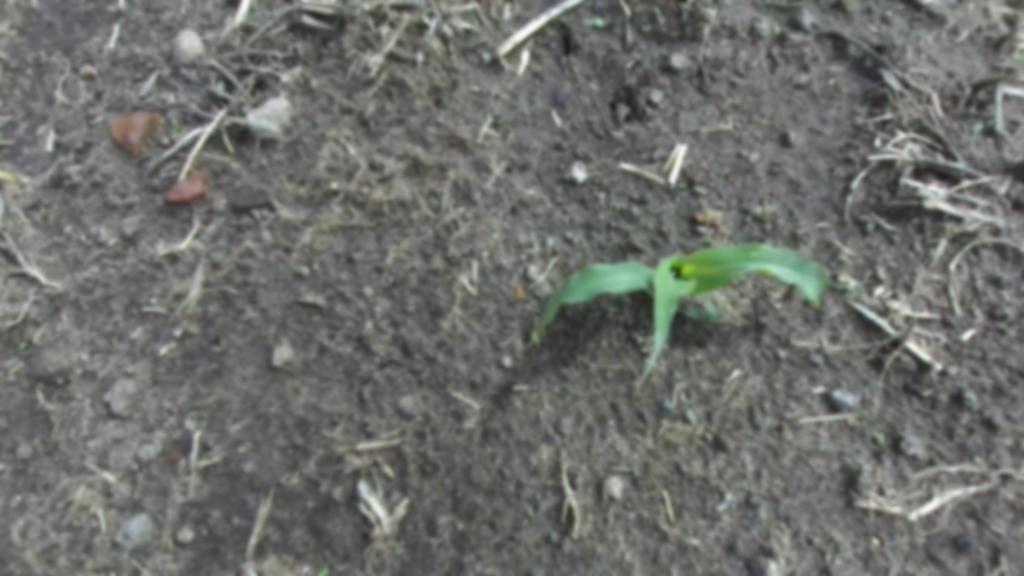BroWeed: (691, 199, 728, 233), (743, 194, 765, 226), (855, 209, 880, 235), (966, 114, 996, 134), (582, 13, 613, 32), (752, 11, 771, 37), (716, 486, 734, 513), (650, 4, 669, 29), (158, 527, 174, 554), (694, 224, 716, 243), (762, 199, 773, 232), (767, 22, 785, 40), (477, 45, 494, 64), (512, 282, 527, 300), (185, 408, 201, 424), (0, 172, 18, 185), (1010, 34, 1024, 50), (315, 564, 332, 576), (872, 135, 884, 151), (528, 329, 540, 345), (1010, 49, 1024, 62), (16, 339, 28, 351), (846, 282, 858, 294), (876, 431, 886, 444), (168, 126, 180, 135), (640, 23, 652, 32), (675, 181, 688, 189), (872, 537, 880, 547), (495, 118, 505, 124)
Maize: (522, 176, 841, 416)
